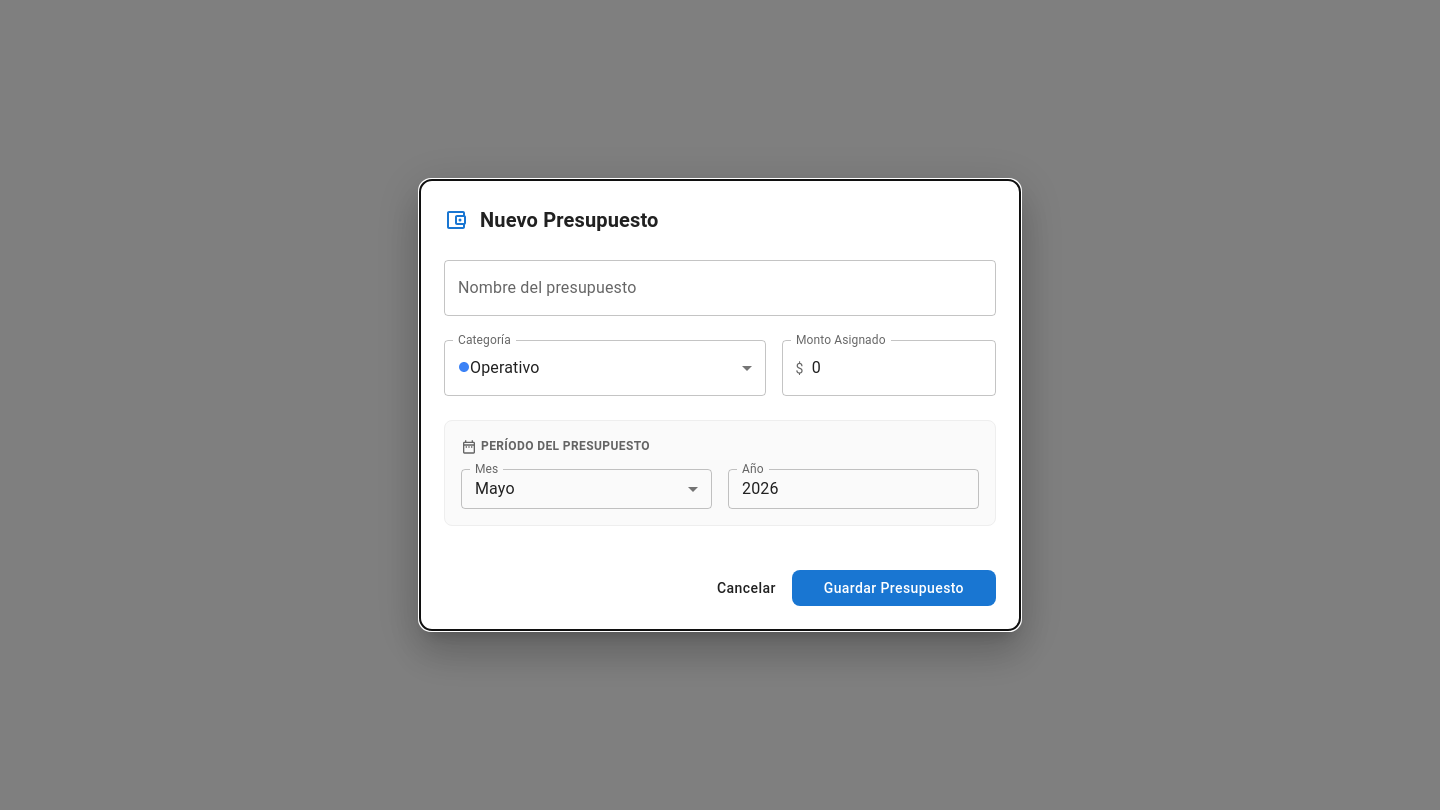
Test: BudgetModal › muestra validación y no envía si el monto es 0
Click the button "Guardar Presupuesto" at (894, 588), box [792,570,996,606]
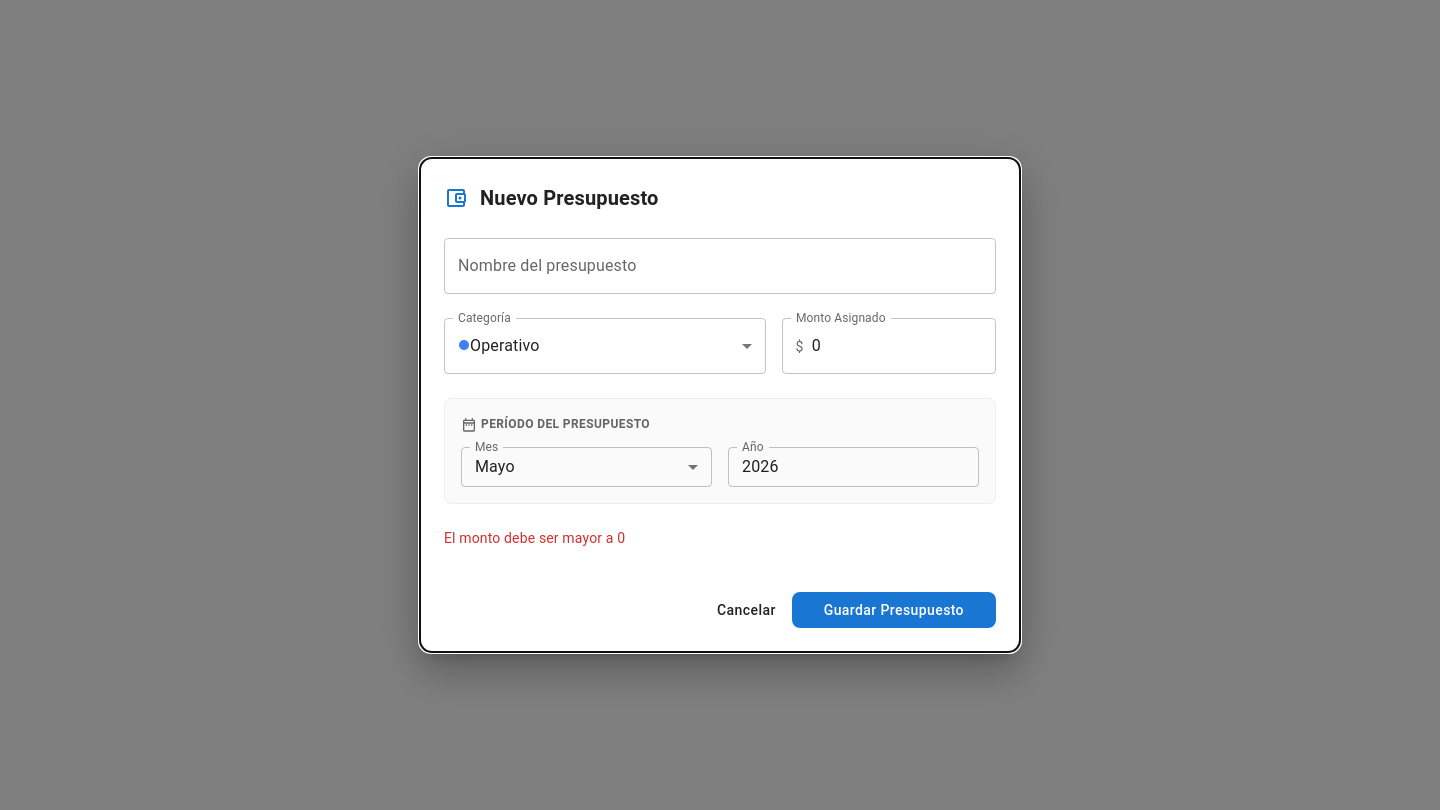
Expected: the text "El monto debe ser mayor a 0" is shown, [444,530,625,546]
